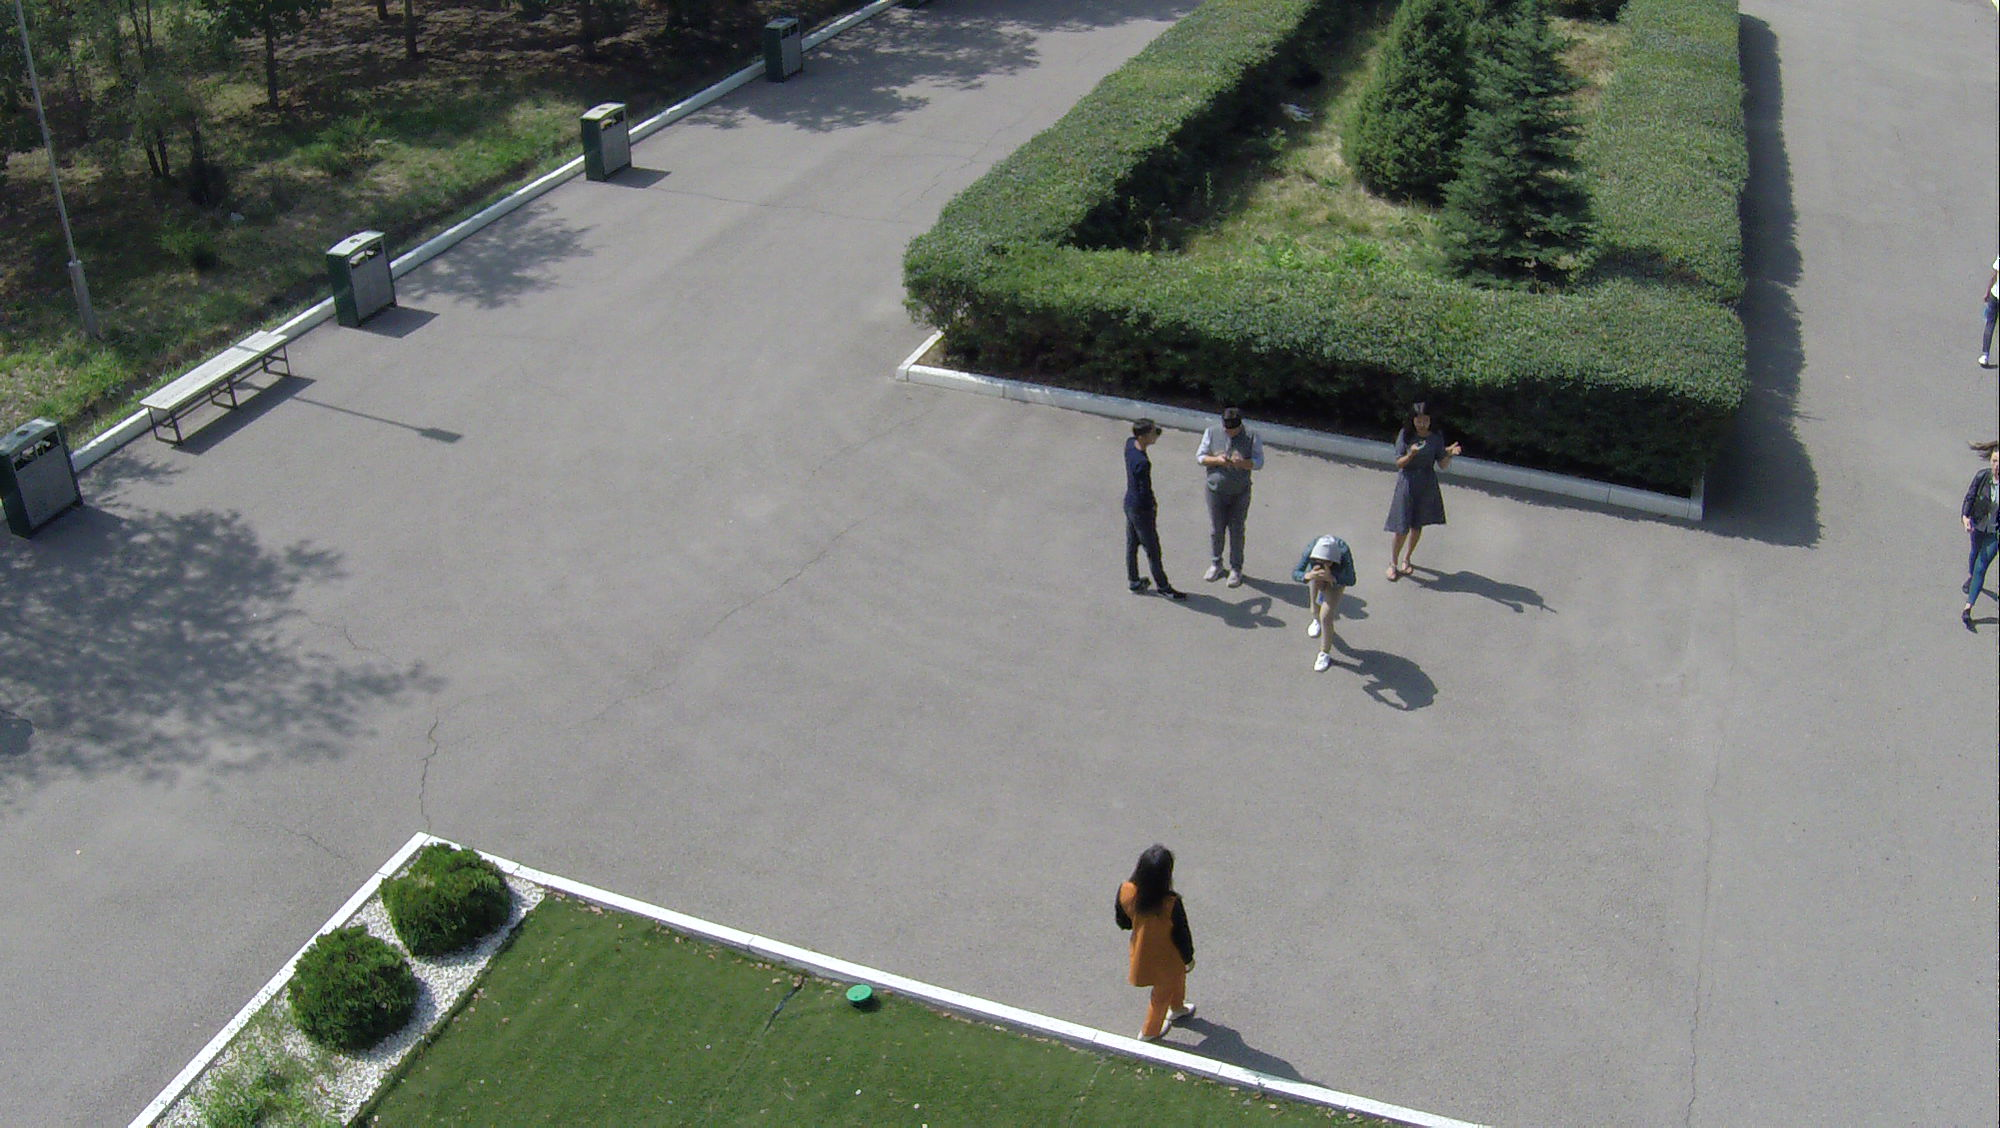person: (1110, 845, 1197, 1066), (1105, 416, 1193, 601), (1191, 410, 1266, 593), (1382, 405, 1455, 587), (1299, 539, 1362, 687)
